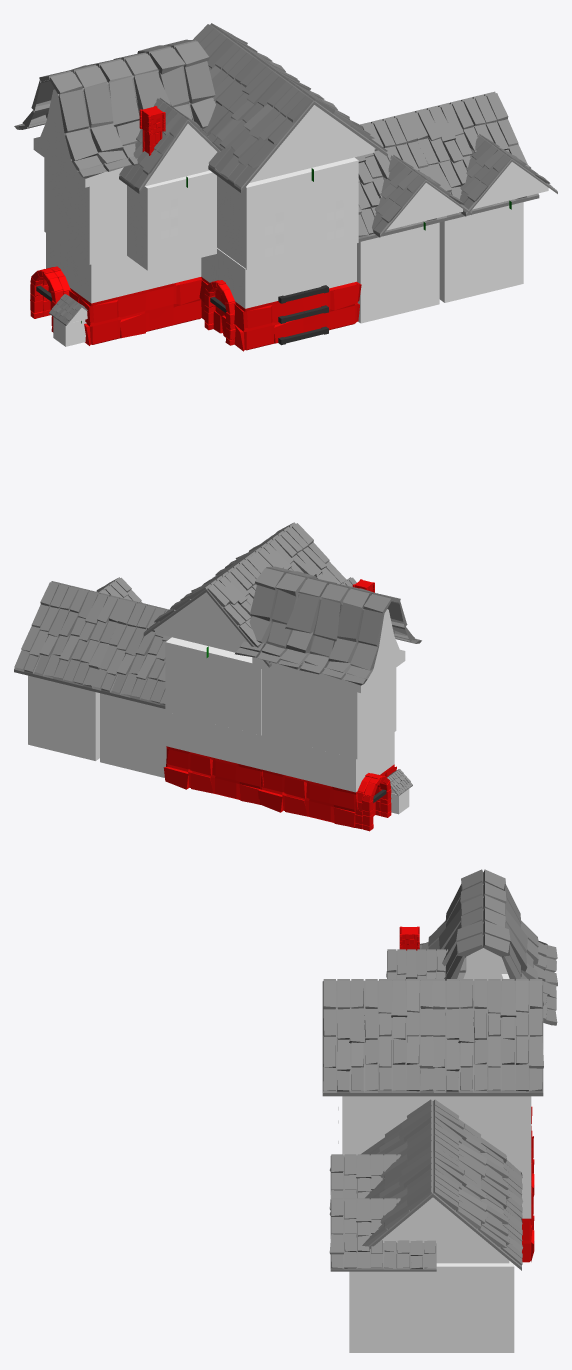
Rendered from sample town.obj.
3 views of the same model, one above another, from view 1: azimuth 30°, elevation 25°; view 2: azimuth 150°, elevation 25°; view 3: azimuth 270°, elevation 25° (orthographic). The views are drawn at different scales.
Parts seen in each view (by area): view 1: roof3_Cube.013_Material.001, roof1_Cube.002_Material.006, HouseFoundation1_Cube_Material.006, housefoundation2_Cube.007_Material.003, housefoundation2_Cube.007_Material.001, HouseFoundation1_Cube_Material.004, HouseFoundation1_Cube_Material.010, roof1_Cube.002_Material.007, HouseFoundation1_Cube_Material.007, HouseFoundation1_Cube_Material.002, roof1_Cube.002_Material.008, roof1_Cube.002_Material.004 (+9 smaller); view 2: roof3_Cube.013_Material.001, HouseFoundation1_Cube_Material.002, housefoundation2_Cube.007_Material.001, roof1_Cube.002_Material.007, HouseFoundation1_Cube_Material.005, housefoundation2_Cube.007_Material.002, roof1_Cube.002_Material.005, roof1_Cube.002_Material.008, HouseFoundation1_Cube_Material.009, HouseFoundation1_Cube_Material.008, roof1_Cube.002_Material.006, stoneframe1_Cube.033_Material.001 (+2 smaller); view 3: roof1_Cube.002_Material.006, roof1_Cube.002_Material.005, roof1_Cube.002_Material.007, roof3_Cube.013_Material.001, HouseFoundation1_Cube_Material.009, HouseFoundation1_Cube_Material.010, roof1_Cube.002_Material.008, roof1_Cube.002_Material.010, HouseFoundation1_Cube_Material.005, HouseFoundation1_Cube_Material.006, roof1_Cube.002_Material.009, roof1_Cube.002_Material.004 (+1 smaller).
Boxes of the visible parts, x1,y1,x2,y2 form: roof3_Cube.013_Material.001: (14,39,215,187); roof1_Cube.002_Material.006: (202,61,387,192); HouseFoundation1_Cube_Material.006: (217,157,358,269); housefoundation2_Cube.007_Material.003: (199,243,361,351); housefoundation2_Cube.007_Material.001: (46,233,202,345); HouseFoundation1_Cube_Material.004: (127,170,216,270); HouseFoundation1_Cube_Material.010: (439,202,523,302); roof1_Cube.002_Material.007: (405,91,539,219); HouseFoundation1_Cube_Material.007: (357,222,439,323); HouseFoundation1_Cube_Material.002: (44,158,126,264); roof1_Cube.002_Material.008: (355,113,448,241); roof1_Cube.002_Material.004: (119,98,222,193); roof3_Cube.013_Material.001: (235,566,421,692); HouseFoundation1_Cube_Material.002: (261,668,396,759); housefoundation2_Cube.007_Material.001: (258,732,396,827); roof1_Cube.002_Material.007: (14,581,128,690); HouseFoundation1_Cube_Material.005: (165,637,261,735); housefoundation2_Cube.007_Material.002: (163,712,263,804); roof1_Cube.002_Material.005: (143,555,271,667); roof1_Cube.002_Material.008: (91,599,171,708); HouseFoundation1_Cube_Material.009: (28,675,99,760); HouseFoundation1_Cube_Material.008: (100,693,166,777); roof1_Cube.002_Material.006: (202,522,346,585); stoneframe1_Cube.033_Material.001: (355,773,391,831); roof1_Cube.002_Material.006: (322,979,434,1096); roof1_Cube.002_Material.005: (432,979,543,1096); roof1_Cube.002_Material.007: (362,1146,522,1270); roof3_Cube.013_Material.001: (419,869,557,1025); HouseFoundation1_Cube_Material.009: (419,1261,514,1352); HouseFoundation1_Cube_Material.010: (349,1263,444,1352); roof1_Cube.002_Material.008: (361,1099,523,1218); roof1_Cube.002_Material.010: (329,1198,436,1271); HouseFoundation1_Cube_Material.005: (436,1096,531,1177); HouseFoundation1_Cube_Material.006: (342,1096,437,1155); roof1_Cube.002_Material.009: (329,1154,400,1210); roof1_Cube.002_Material.004: (386,949,466,980).
Bounding box in the file's own units: 18.48 × 10.42 × 17.43.
Materials: 1 (1 with a texture image).
